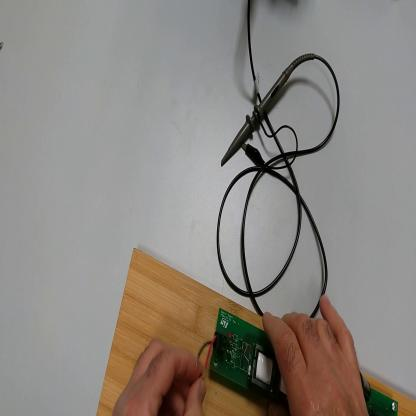hand: (265, 293, 368, 414), (113, 337, 209, 416)
high voltage board: (198, 307, 398, 415)
oscilloscope probe tip: (222, 58, 299, 169)
working area: (84, 243, 416, 414)
